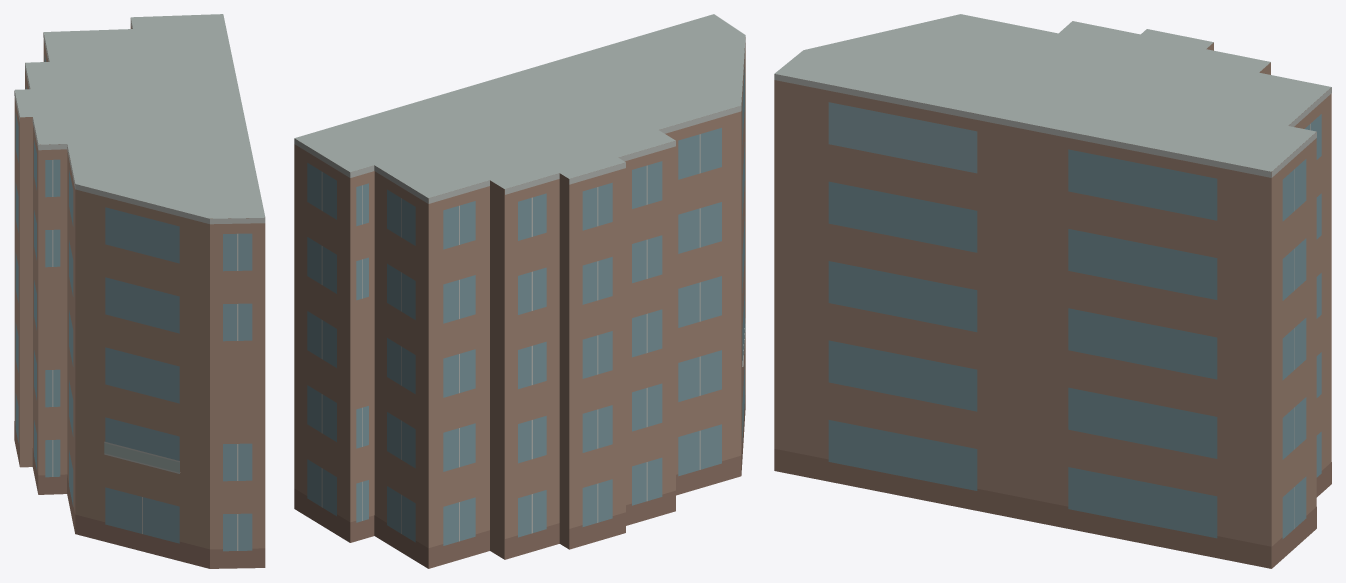
Rendered from survey-upis-32743577.glb.
The picture shows the model from 3 angles, left to right: view 1: azimuth 30°, elevation 25°; view 2: azimuth 150°, elevation 25°; view 3: azimuth 270°, elevation 25°; orthographic projection. The views are drawn at different scales.
Visible parts, largest first — view 1: survey-upis-32743577.tmp; view 2: survey-upis-32743577.tmp; view 3: survey-upis-32743577.tmp.
Part boxes in pixels (left/top/right/bottom): survey-upis-32743577.tmp: left=14, top=14, right=265, bottom=568; survey-upis-32743577.tmp: left=294, top=14, right=745, bottom=568; survey-upis-32743577.tmp: left=774, top=14, right=1331, bottom=568.
Bounding box in the file's own units: 13.39 × 15.7 × 19.99.
